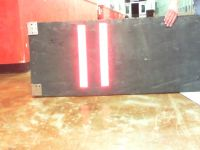switch: (98, 22, 111, 86), (77, 25, 89, 87)
